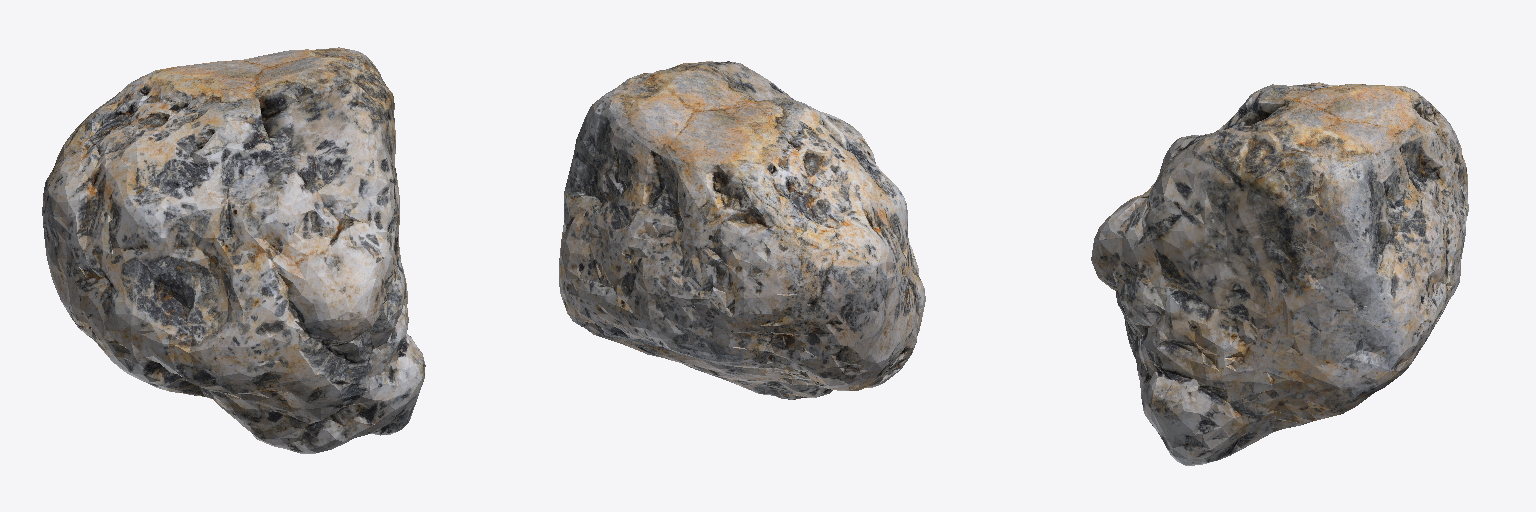
3 renders of one model, left to right at view 1: azimuth 30°, elevation 25°; view 2: azimuth 150°, elevation 25°; view 3: azimuth 270°, elevation 25°, orthographic.
Bounding box in the file's own units: 0.0983 × 0.0996 × 0.1.
Materials: 1 (1 with a texture image).